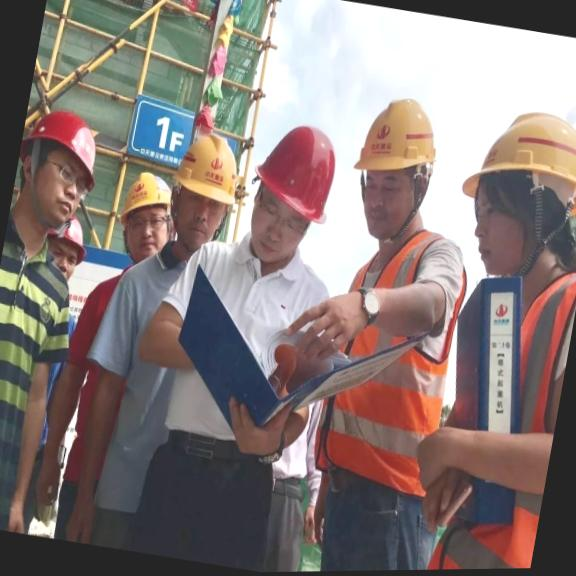no_safety_vest: (171, 229, 326, 460), (0, 241, 77, 510)
safety_vest: (319, 244, 460, 501)
